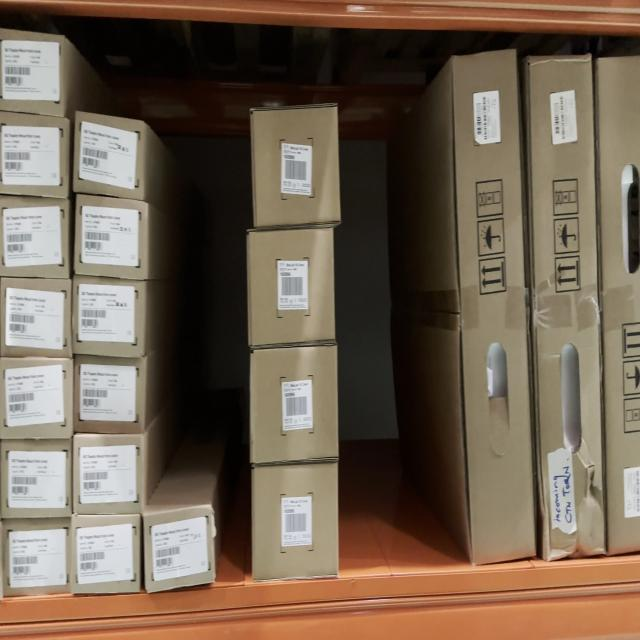box: (452, 52, 537, 566), (526, 61, 610, 560), (250, 107, 342, 236), (249, 231, 336, 347), (248, 347, 338, 458), (253, 467, 340, 578), (76, 112, 144, 202), (74, 431, 144, 517), (2, 357, 72, 443), (1, 108, 66, 200), (76, 199, 149, 280), (0, 194, 68, 280), (75, 278, 146, 358), (0, 522, 74, 596), (74, 357, 144, 433), (2, 31, 64, 116), (5, 276, 70, 356), (72, 520, 141, 593), (145, 514, 216, 582), (3, 443, 65, 511)
